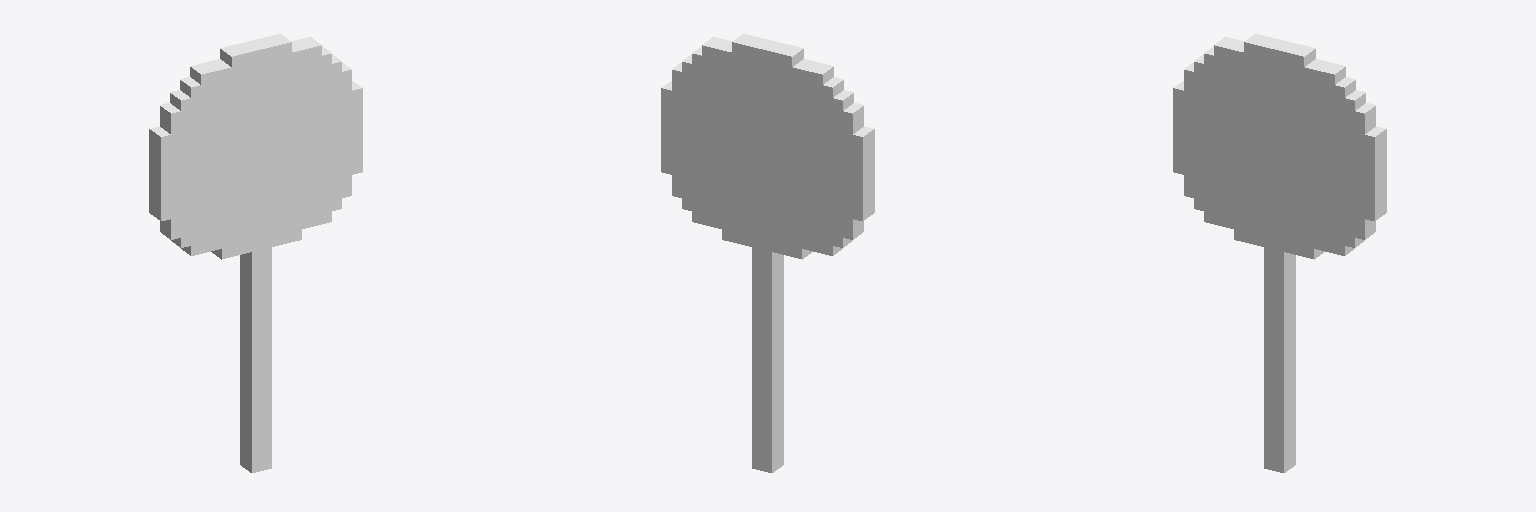
The model's file is stopSign.obj.
3 views of the same model, side by side, from view 1: azimuth 30°, elevation 25°; view 2: azimuth 150°, elevation 25°; view 3: azimuth 330°, elevation 25° (orthographic).
Parts seen in each view (by area): view 1: object 1; view 2: object 1; view 3: object 1.
Boxes of the visible parts, <box> form: object 1: <box>149,34,362,472</box>; object 1: <box>661,34,874,472</box>; object 1: <box>1173,34,1386,472</box>.
Bounding box in the file's own units: 2 × 4 × 0.2.